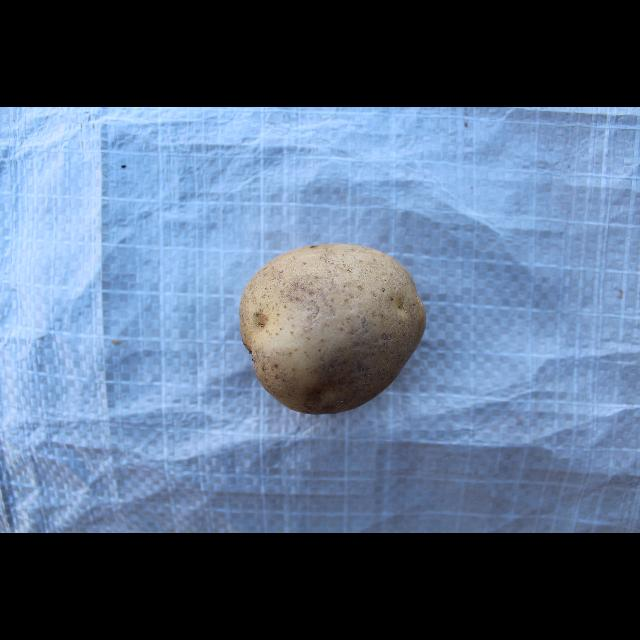Diseased-fungal potato: (238, 242, 432, 418)
